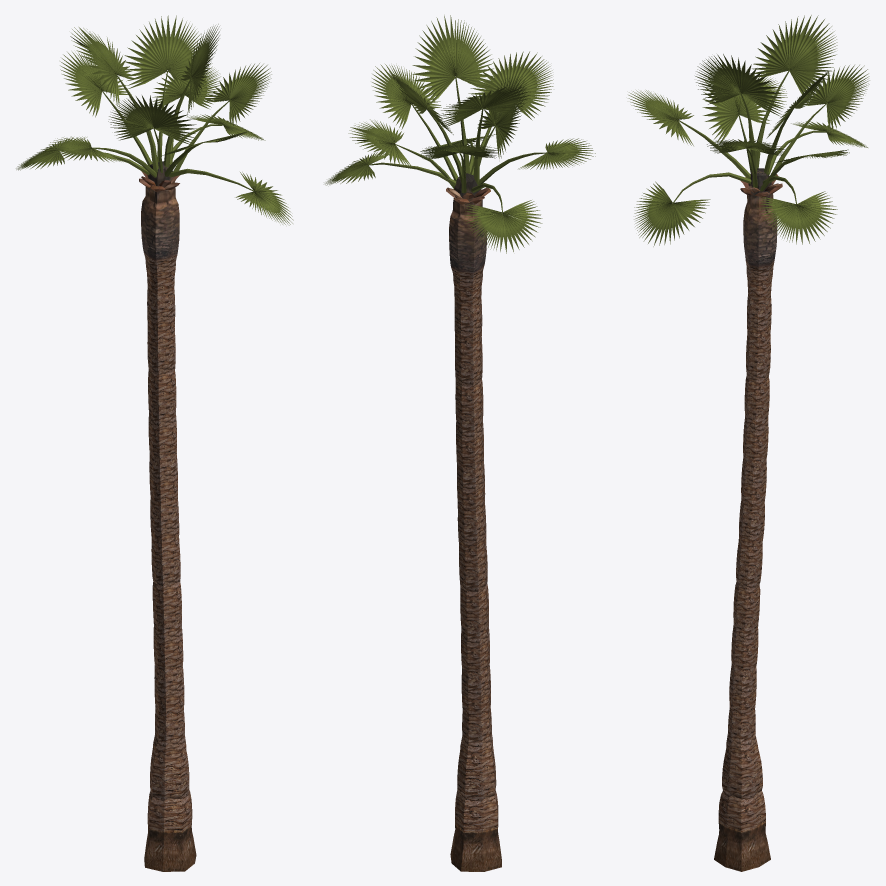
Rendered from sweethome3d-scopia-palm-tree-387.glb.
The picture shows the model from 3 angles, left to right: view 1: azimuth 30°, elevation 25°; view 2: azimuth 150°, elevation 25°; view 3: azimuth 270°, elevation 25°; orthographic projection.
Parts seen in each view (by area): view 1: trunk_Palm_trunk, Leaf_Circle_Leaves; view 2: trunk_Palm_trunk, Leaf_Circle_Leaves; view 3: trunk_Palm_trunk, Leaf_Circle_Leaves.
Boxes of the visible parts, left/top/right/bottom form: trunk_Palm_trunk: left=141, top=161, right=196, bottom=871; Leaf_Circle_Leaves: left=16, top=15, right=293, bottom=225; trunk_Palm_trunk: left=449, top=173, right=501, bottom=871; Leaf_Circle_Leaves: left=325, top=15, right=595, bottom=253; trunk_Palm_trunk: left=714, top=168, right=777, bottom=871; Leaf_Circle_Leaves: left=628, top=15, right=869, bottom=246.
Bounding box in the file's own units: 347 × 1150 × 310.
3 materials, 3 textured.
